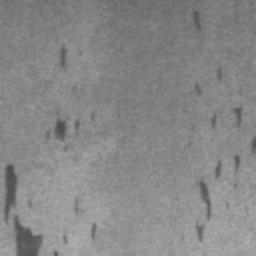Red iron sheet: (184, 107, 256, 243), (4, 164, 97, 256), (46, 112, 96, 152), (60, 45, 83, 68), (193, 10, 201, 30), (217, 67, 223, 81), (195, 84, 202, 95)
